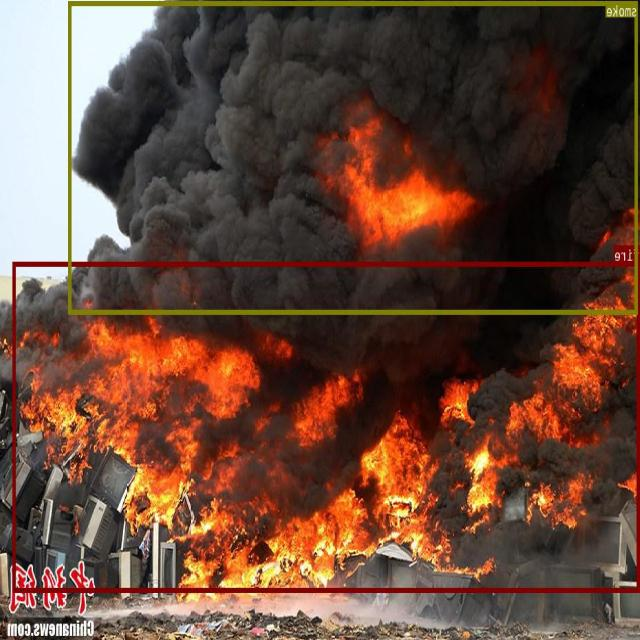fire: (13, 262, 640, 592)
smoke: (70, 0, 638, 314)
